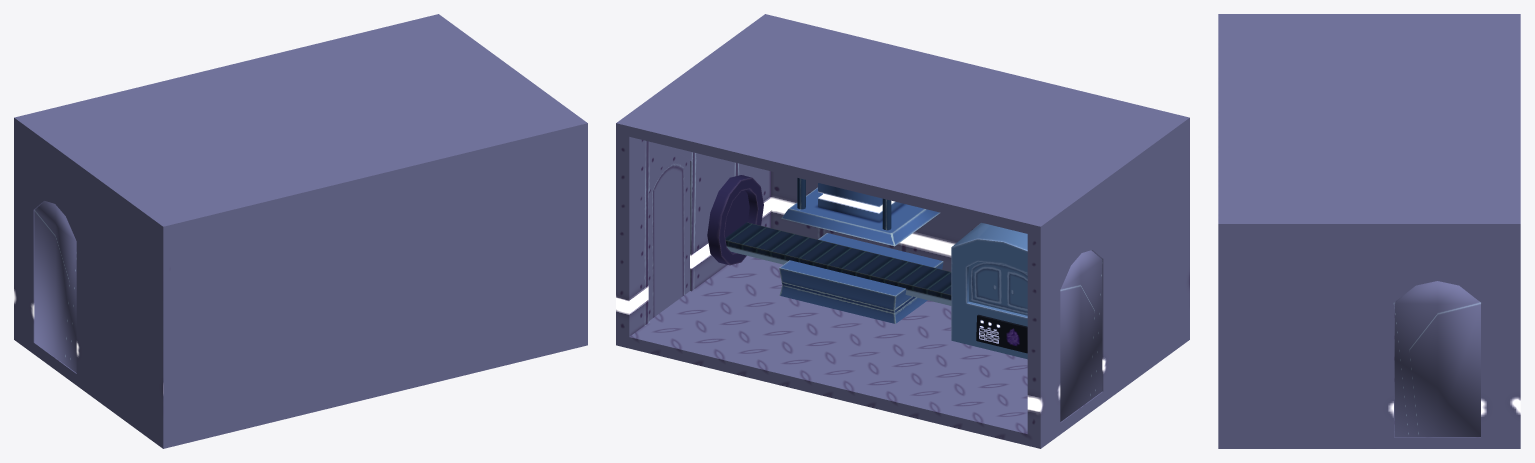
Rendered from complex_asterius.fbx.
The picture shows the model from 3 angles, left to right: view 1: azimuth 30°, elevation 25°; view 2: azimuth 150°, elevation 25°; view 3: azimuth 270°, elevation 25°; orthographic projection.
Visible parts, largest first — view 1: base, base.002; view 2: base, Cube, Cube.003, base.002, Cube.002, base.001, Cube.001, Circle.004; view 3: base, base.001.
Boxes of the visible parts, bbox=[...] form: base: bbox=[14, 14, 587, 448]; base.002: bbox=[34, 201, 76, 372]; base: bbox=[616, 14, 1189, 448]; Cube: bbox=[951, 222, 1027, 359]; Cube.003: bbox=[725, 222, 951, 305]; base.002: bbox=[1060, 250, 1102, 421]; Cube.002: bbox=[779, 233, 943, 323]; base.001: bbox=[648, 154, 689, 320]; Cube.001: bbox=[781, 178, 940, 246]; Circle.004: bbox=[707, 175, 763, 265]; base: bbox=[1218, 14, 1520, 448]; base.001: bbox=[1394, 281, 1480, 436].
Size of the model in its own units: 800 by 400 by 487.
